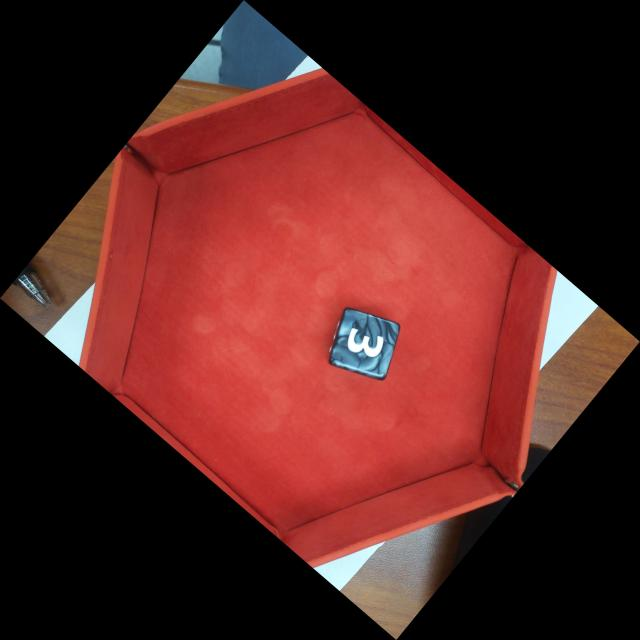dice: (335, 312, 399, 380)
